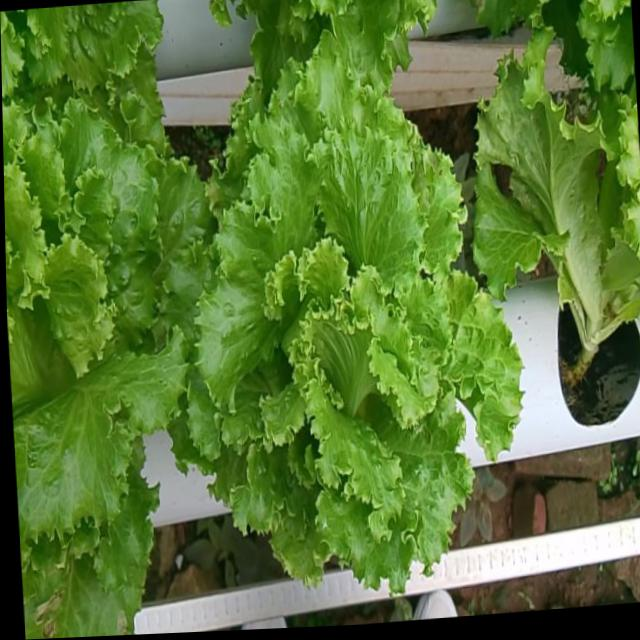Mature: (178, 67, 512, 601), (4, 107, 202, 554)
